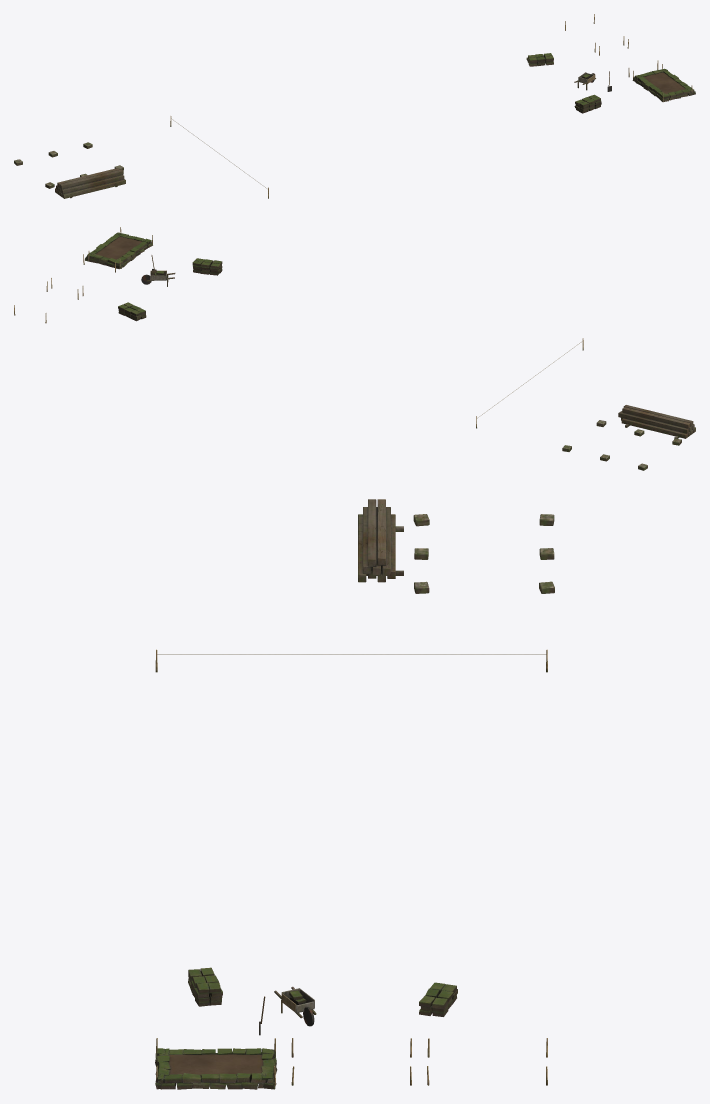
File: archery_range_build1.glb
The picture shows the model from 3 angles, top to bottom: view 1: azimuth 30°, elevation 25°; view 2: azimuth 150°, elevation 25°; view 3: azimuth 270°, elevation 25°; orthographic projection. The views are drawn at different scales.
Visible parts, largest first — view 1: archery_range_build1_LOD0; view 2: archery_range_build1_LOD0; view 3: archery_range_build1_LOD0.
Part boxes in pixels (x1,y1,x2,y2): archery_range_build1_LOD0: [14, 14, 695, 198]; archery_range_build1_LOD0: [14, 227, 695, 470]; archery_range_build1_LOD0: [155, 499, 554, 1089].
Size of what is drawn, in the model's own units: 38.68 by 1.2 by 11.48.
Materials: 1 (1 with a texture image).
